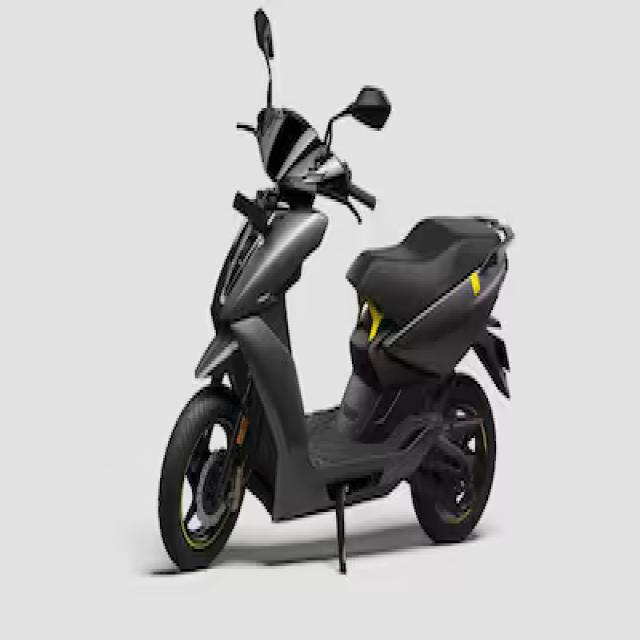objects: (141, 1, 524, 592)
